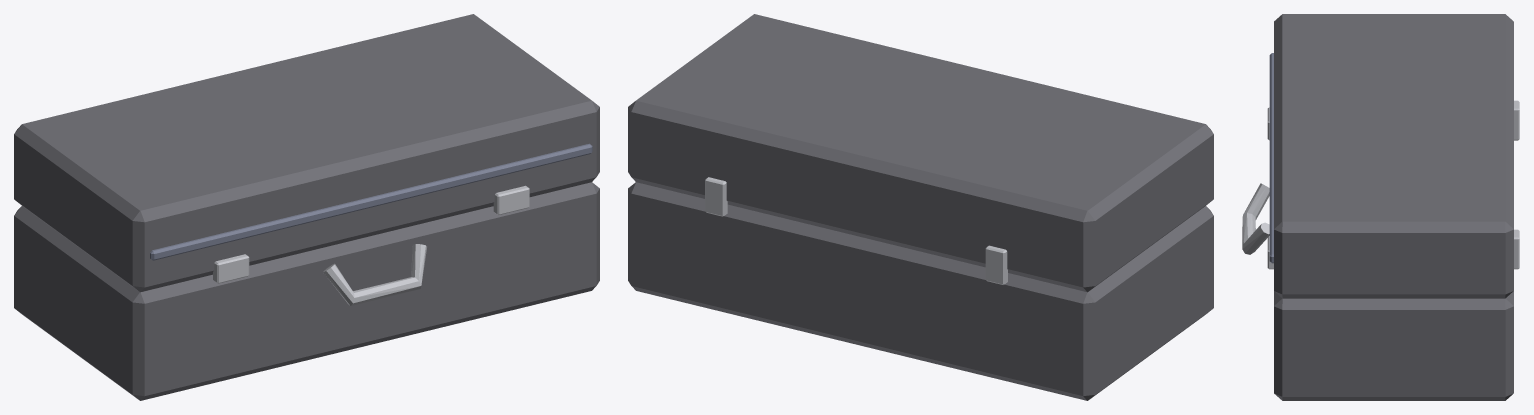
File: orchestra-and-band-instruments-saxophone-case-a7b31324__39316.glb
The picture shows the model from 3 angles, left to right: view 1: azimuth 30°, elevation 25°; view 2: azimuth 150°, elevation 25°; view 3: azimuth 270°, elevation 25°; orthographic projection. The views are drawn at different scales.
Visible parts, largest first — view 1: lid/dark, saxophone-case, lid/fabric; view 2: lid/dark, saxophone-case; view 3: lid/dark, saxophone-case, lid/fabric.
Boxes of the visible parts, x1,y1,x2,y2 form: lid/dark: (14,14,599,292); saxophone-case: (14,182,599,400); lid/fabric: (150,143,592,260); lid/dark: (628,14,1213,292); saxophone-case: (628,177,1213,400); lid/dark: (1274,14,1513,298); saxophone-case: (1242,100,1519,400); lid/fabric: (1269,53,1273,263).
Size of the model in its own units: 0.72 by 0.28 by 0.3927.
